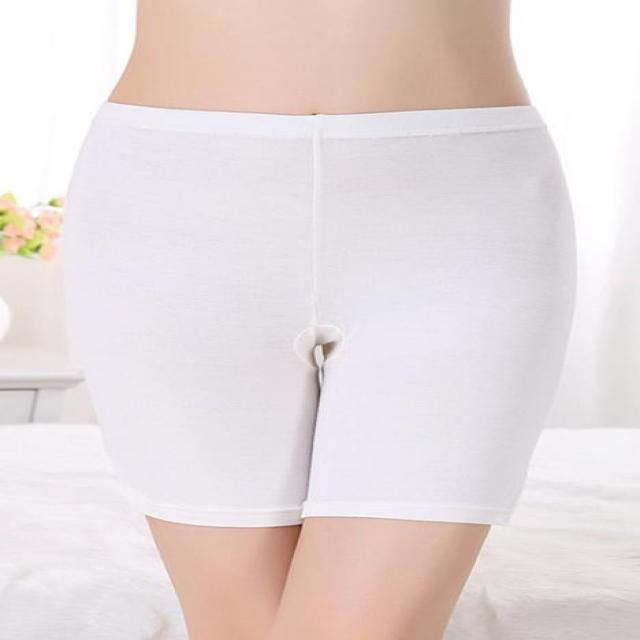shorts: (46, 75, 564, 562)
